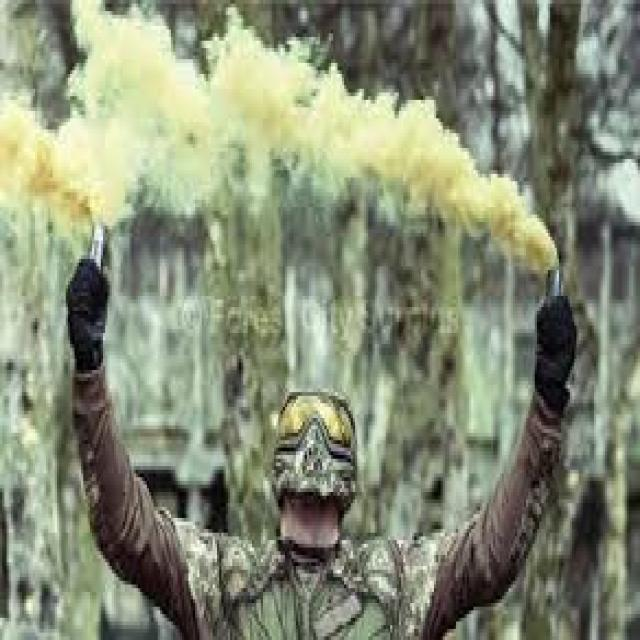Smoke: (0, 0, 560, 279)
